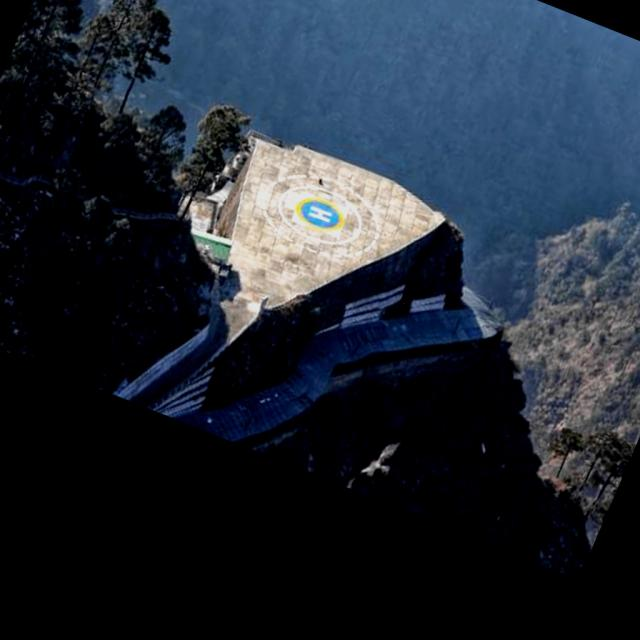helipad: (294, 196, 344, 231)
